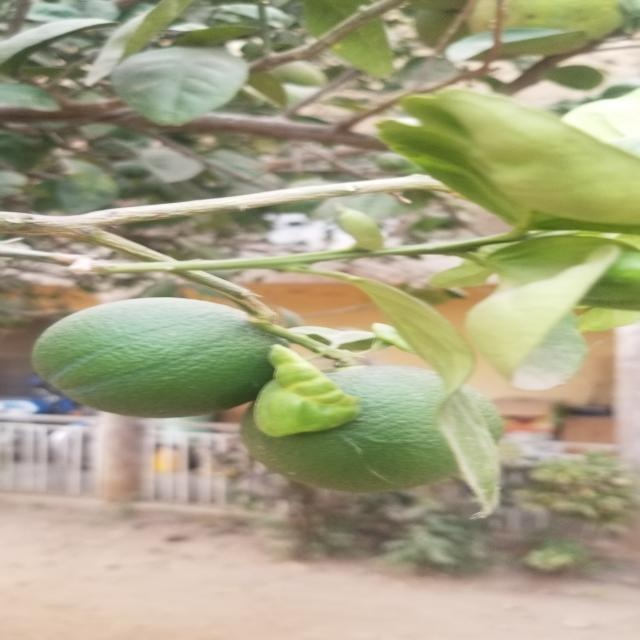agrume: (242, 360, 513, 505), (20, 290, 288, 427)
